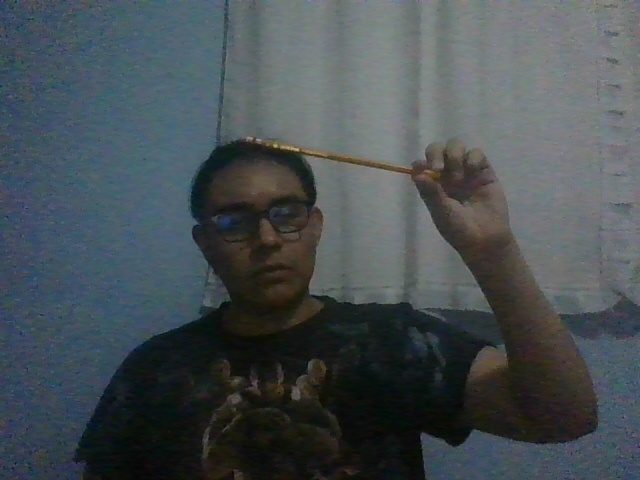lapiz: (244, 136, 442, 181)
